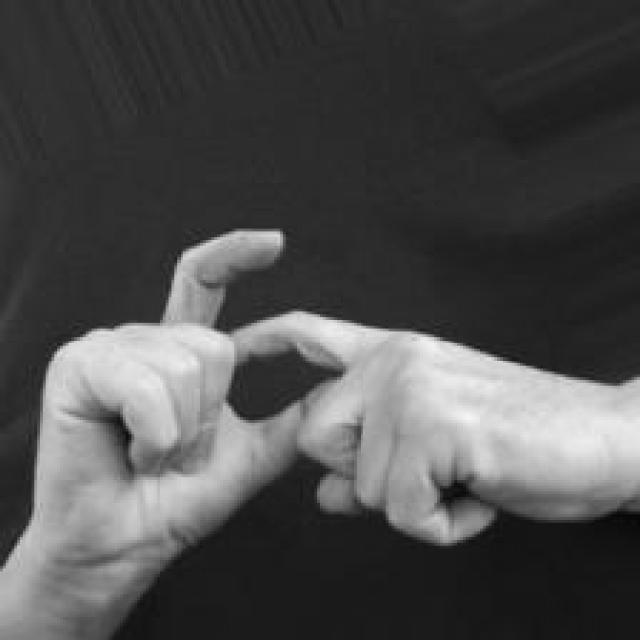G: (27, 226, 640, 618)
